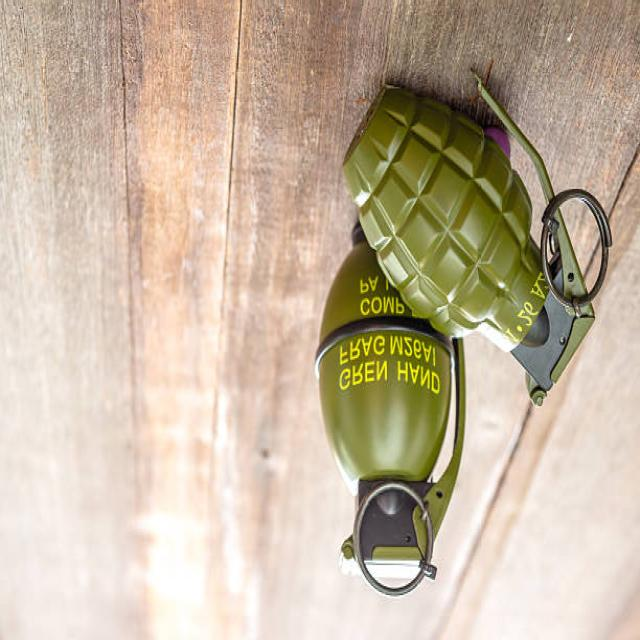grenade: (333, 59, 618, 416)
